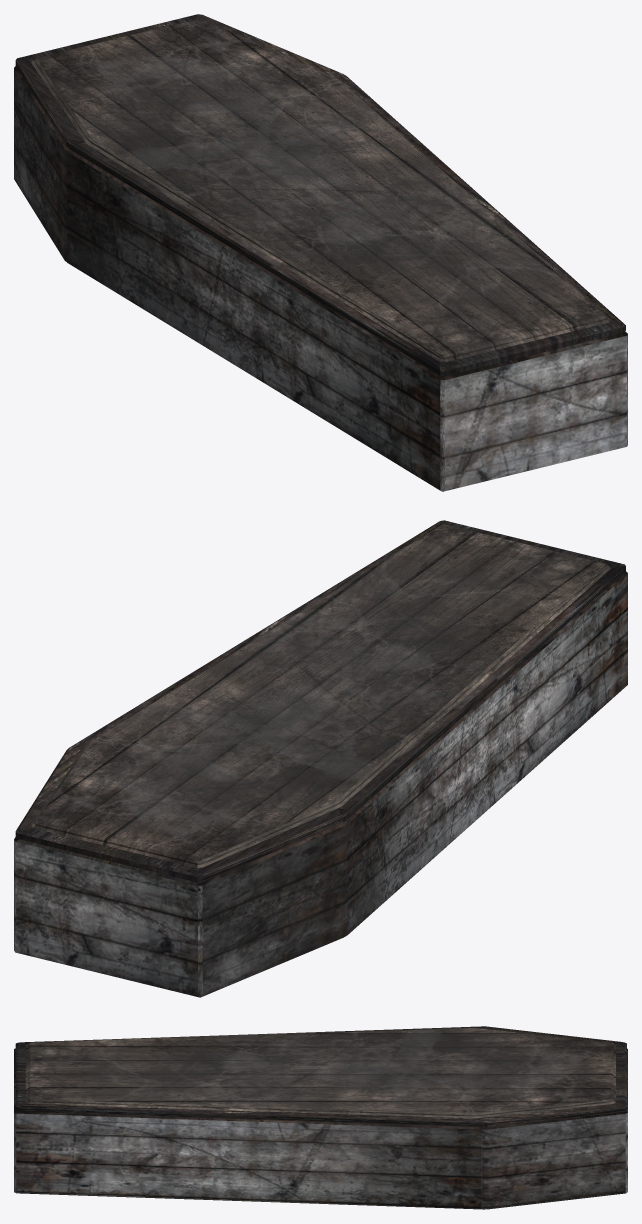
File: coffin_dirty.dae
3 views of the same model, one above another, from view 1: azimuth 30°, elevation 25°; view 2: azimuth 150°, elevation 25°; view 3: azimuth 270°, elevation 25° (orthographic). The views are drawn at different scales.
Parts seen in each view (by area): view 1: Cube_001, Cube; view 2: Cube_001, Cube; view 3: Cube_001, Cube.
Boxes of the visible parts, x1,y1,x2,y2 form: Cube_001: (15,14,625,376); Cube: (14,66,627,491); Cube_001: (15,520,625,882); Cube: (14,571,627,997); Cube_001: (15,1026,626,1127); Cube: (14,1048,627,1209).
Bounding box in the file's own units: 1.08 × 2.86 × 0.4662.
1 material, 1 textured.
